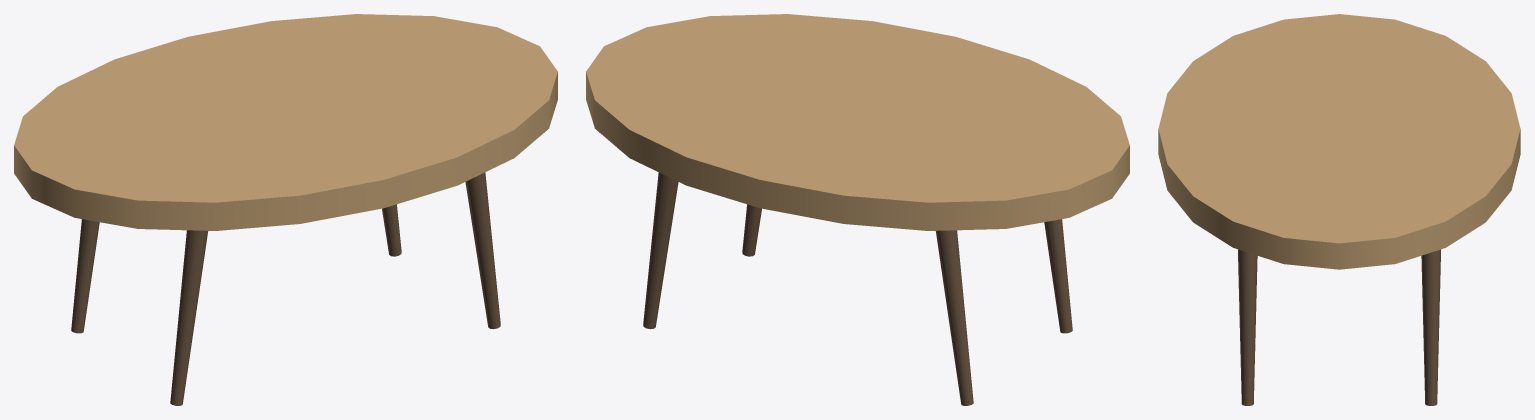
File: tablecoffee.glb
3 renders of one model, left to right at view 1: azimuth 30°, elevation 25°; view 2: azimuth 150°, elevation 25°; view 3: azimuth 270°, elevation 25°, orthographic. The views are drawn at different scales.
Parts seen in each view (by area): view 1: atelier-warm-tablecoffee; view 2: atelier-warm-tablecoffee; view 3: atelier-warm-tablecoffee.
Part boxes in pixels (box(x1,y1,x2,y2)): atelier-warm-tablecoffee: box(14, 14, 557, 405); atelier-warm-tablecoffee: box(586, 14, 1129, 405); atelier-warm-tablecoffee: box(1158, 14, 1520, 405).
Bounding box in the file's own units: 2.41 × 1 × 1.6.
